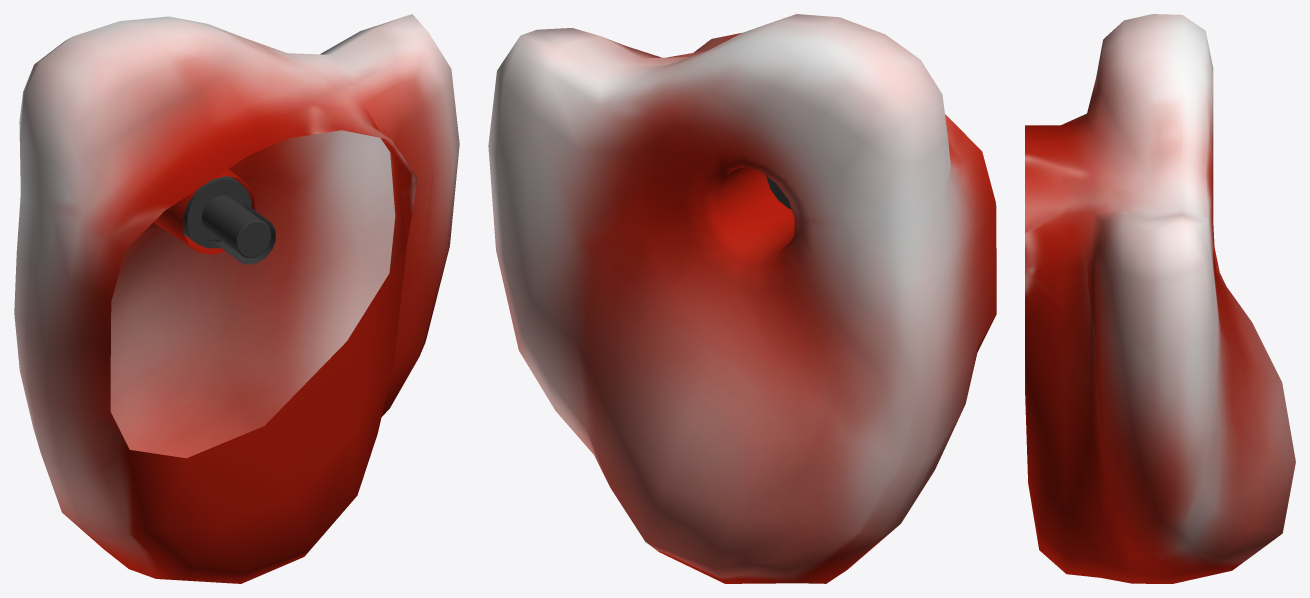
File: Hold5.obj
3 views of the same model, side by side, from view 1: azimuth 30°, elevation 25°; view 2: azimuth 150°, elevation 25°; view 3: azimuth 270°, elevation 25° (orthographic). The views are drawn at different scales.
Parts seen in each view (by area): view 1: Screw, Body.002; view 2: Screw; view 3: Screw.
Part boxes in pixels (x1,y1,x2,y2): Screw: (14, 14, 459, 583); Body.002: (183, 176, 275, 264); Screw: (488, 14, 996, 583); Screw: (1025, 14, 1295, 583).
Bounding box in the file's own units: 0.1665 × 0.2015 × 0.0967.
